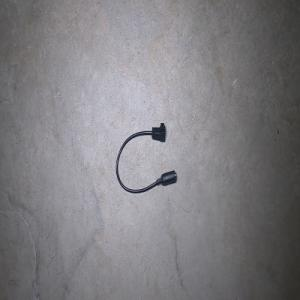Wire: (115, 123, 176, 193)
